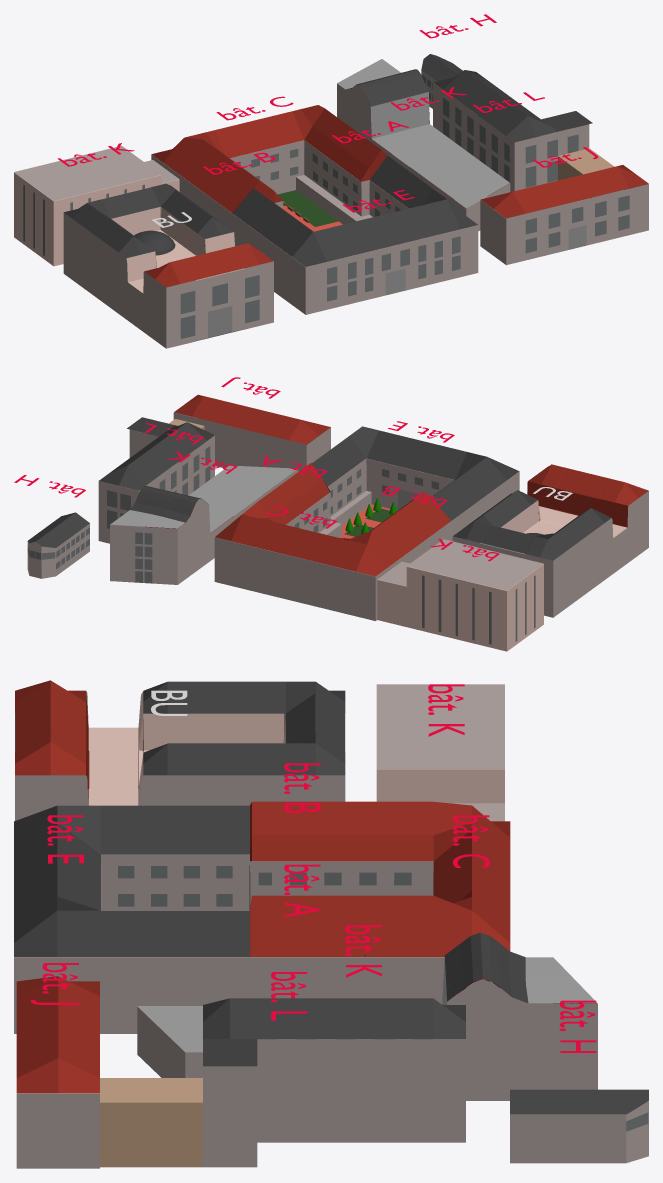
File: bat3.glb
3 renders of one model, top to bottom at view 1: azimuth 30°, elevation 25°; view 2: azimuth 150°, elevation 25°; view 3: azimuth 270°, elevation 25°, orthographic. The views are drawn at different scales.
Visible parts, largest first — view 1: toits, Bâtiment principal, Cube.001, Cube.005, Cube.006, Cube, Cube.004, sol fac; view 2: toits, Bâtiment principal, Cube, Cube.004, Cube.001, Cube.006, Cube.005, Cube.007, sol fac; view 3: toits, Cube.006, Bâtiment principal, Cube.004, Cube.001, Cube.007, Cube.005, Cube, Texte.003, Texte.007, Texte.001, Texte.006 (+3 smaller).
Boxes of the visible parts, x1,y1,x2,y2 form: toits: [14, 54, 648, 293]; Bâtiment principal: [151, 140, 478, 314]; Cube.001: [63, 213, 273, 348]; Cube.005: [480, 184, 648, 265]; Cube.006: [433, 82, 622, 198]; Cube: [14, 172, 179, 266]; Cube.004: [337, 83, 510, 231]; sol fac: [277, 190, 342, 231]; toits: [28, 394, 648, 590]; Bâtiment principal: [214, 458, 519, 620]; Cube: [377, 564, 543, 651]; Cube.004: [110, 469, 298, 584]; Cube.001: [452, 483, 648, 617]; Cube.006: [98, 419, 214, 543]; Cube.005: [173, 412, 330, 471]; Cube.007: [27, 523, 89, 578]; sol fac: [340, 498, 397, 538]; toits: [14, 680, 648, 1114]; Cube.006: [93, 1039, 465, 1167]; Bâtiment principal: [14, 854, 444, 1033]; Cube.004: [137, 979, 597, 1100]; Cube.001: [15, 691, 345, 820]; Cube.007: [510, 1100, 648, 1163]; Cube.005: [16, 1093, 99, 1168]; Cube: [376, 769, 504, 803]; Texte.003: [284, 763, 320, 813]; Texte.007: [559, 1000, 596, 1052]; Texte.001: [428, 684, 464, 736]; Texte.006: [345, 925, 381, 977].
Size of the model in its own units: 17.59 by 2.69 by 12.02.
